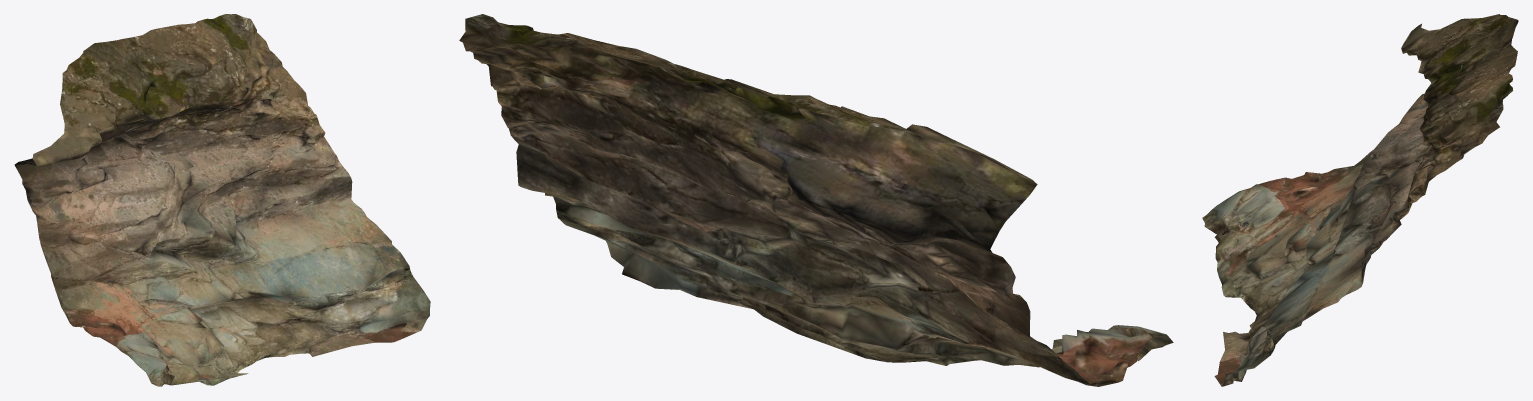
Rendered from rock_face_01.glb.
3 views of the same model, side by side, from view 1: azimuth 30°, elevation 25°; view 2: azimuth 150°, elevation 25°; view 3: azimuth 270°, elevation 25° (orthographic). The views are drawn at different scales.
Visible parts, largest first — view 1: rock_face_01; view 2: rock_face_01; view 3: rock_face_01.
Part boxes in pixels (<box>): rock_face_01: <box>14,14,430,386</box>; rock_face_01: <box>459,14,1173,386</box>; rock_face_01: <box>1202,14,1518,386</box>.
Size of the model in its own units: 4.94 by 3.56 by 3.82.
Materials: 1 (1 with a texture image).
